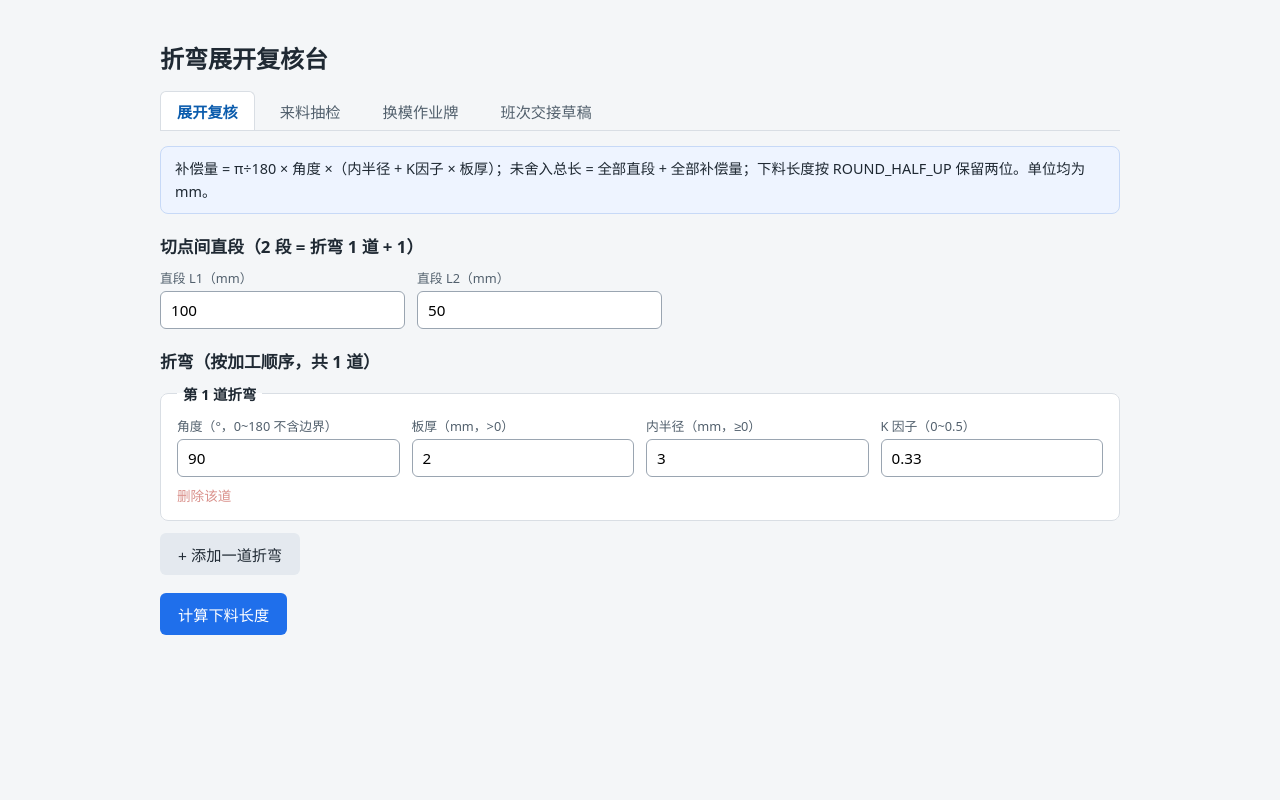
it: 来料抽检视图 › 实测次数可增删，但不少于 3 次
Click the tab "来料抽检": (310, 111) [263,91,358,130]
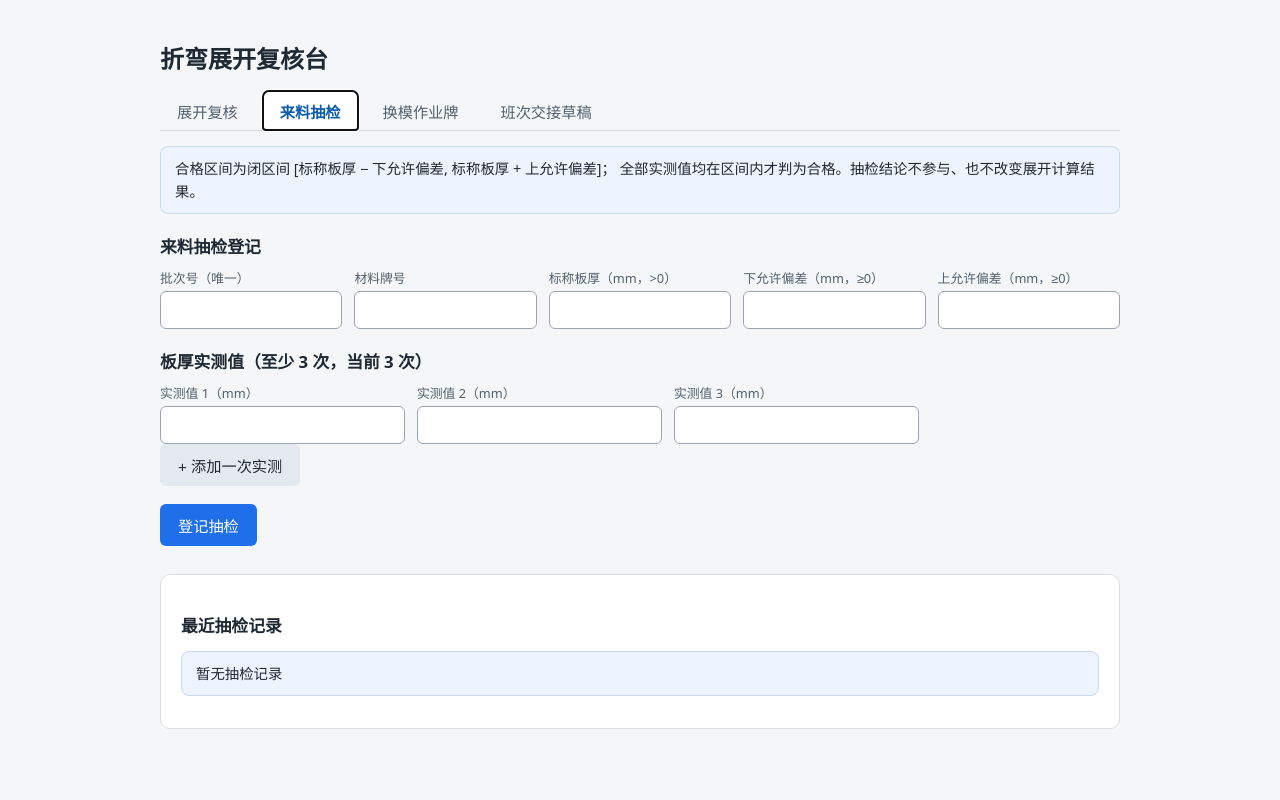
Click the button "+ 添加一次实测": (230, 465) [160,444,300,486]
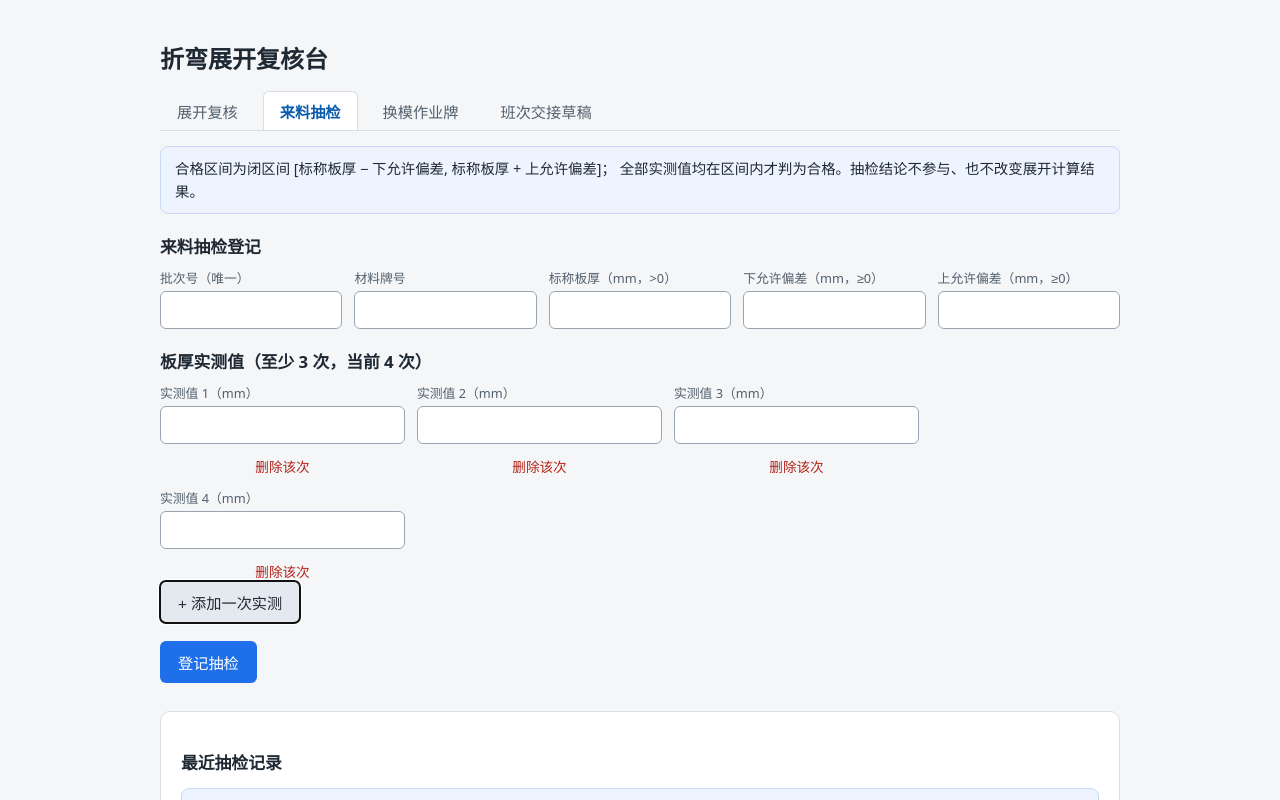
Now the field labelled "实测值 4（mm）" is shown, box [160,511,405,549]
Click the 4th button "删除该次": (282, 567) [160,553,405,581]
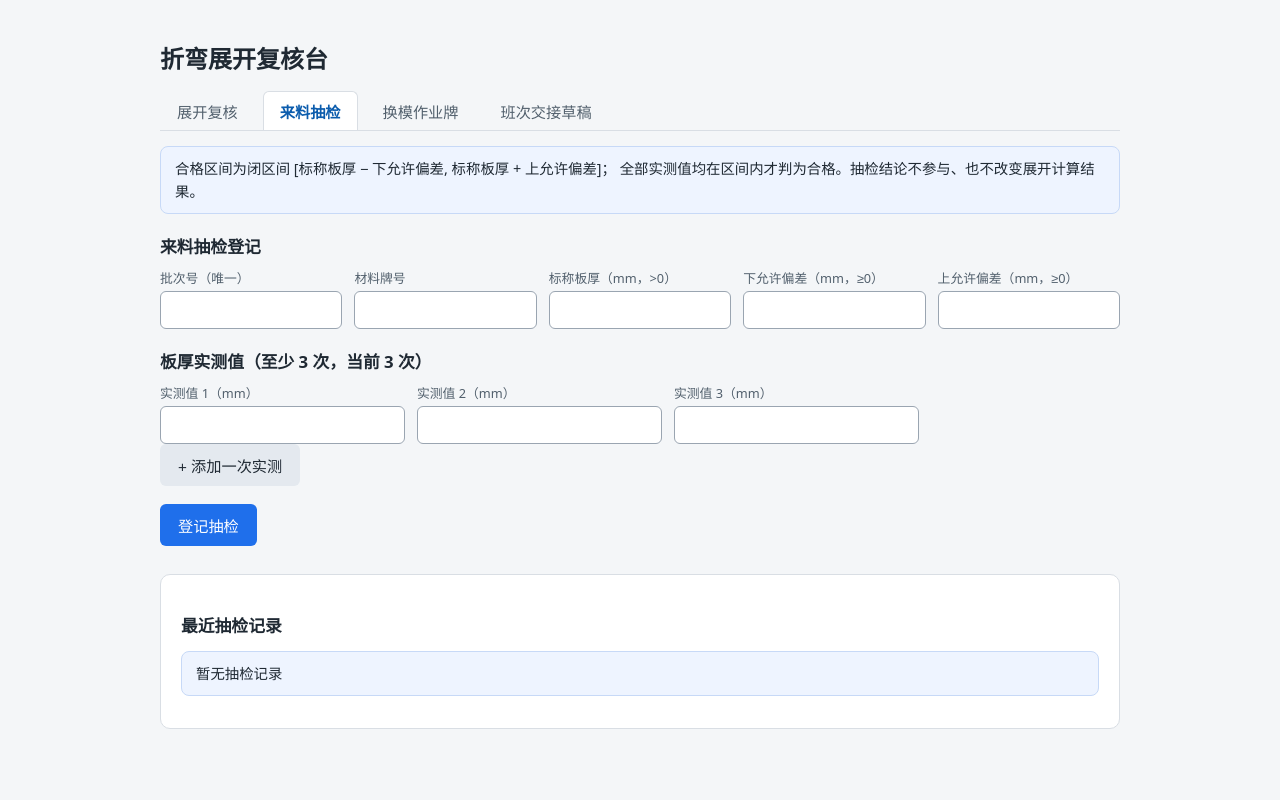
Now the label labelled "实测值 4" is gone
Now the button "删除该次" is gone
